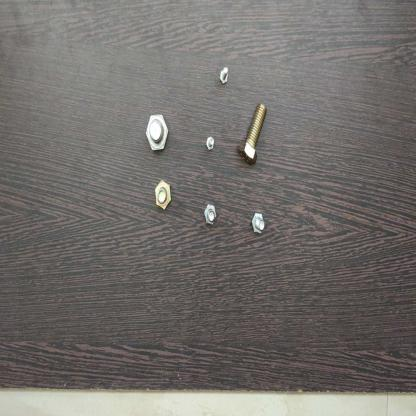Bolts: (235, 102, 271, 168), (143, 106, 171, 157), (153, 174, 175, 224), (218, 64, 234, 90), (204, 132, 216, 158)
